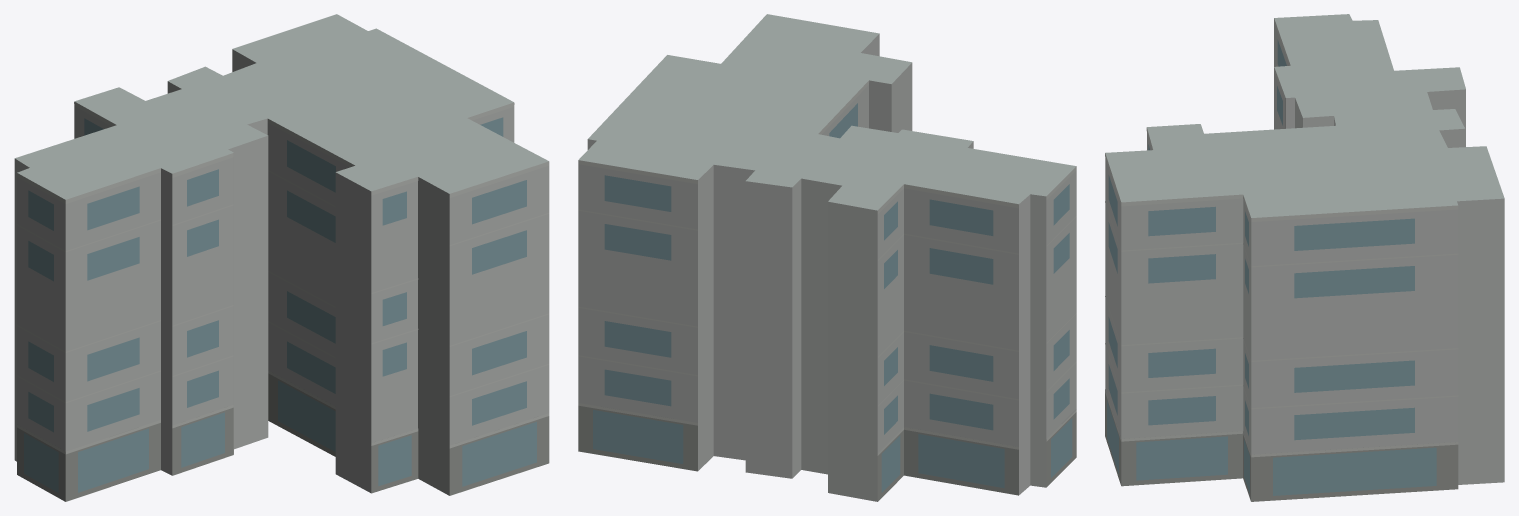
Rendered from survey-upis-32519234.glb.
The picture shows the model from 3 angles, left to right: view 1: azimuth 30°, elevation 25°; view 2: azimuth 150°, elevation 25°; view 3: azimuth 270°, elevation 25°; orthographic projection. The views are drawn at different scales.
Visible parts, largest first — view 1: survey-upis-32519234.tmp; view 2: survey-upis-32519234.tmp; view 3: survey-upis-32519234.tmp.
Part boxes in pixels (left/top/right/bottom): survey-upis-32519234.tmp: left=14, top=14, right=549, bottom=501; survey-upis-32519234.tmp: left=578, top=14, right=1076, bottom=501; survey-upis-32519234.tmp: left=1105, top=14, right=1504, bottom=501.
Size of the model in its own units: 26.56 by 17.2 by 21.97.
